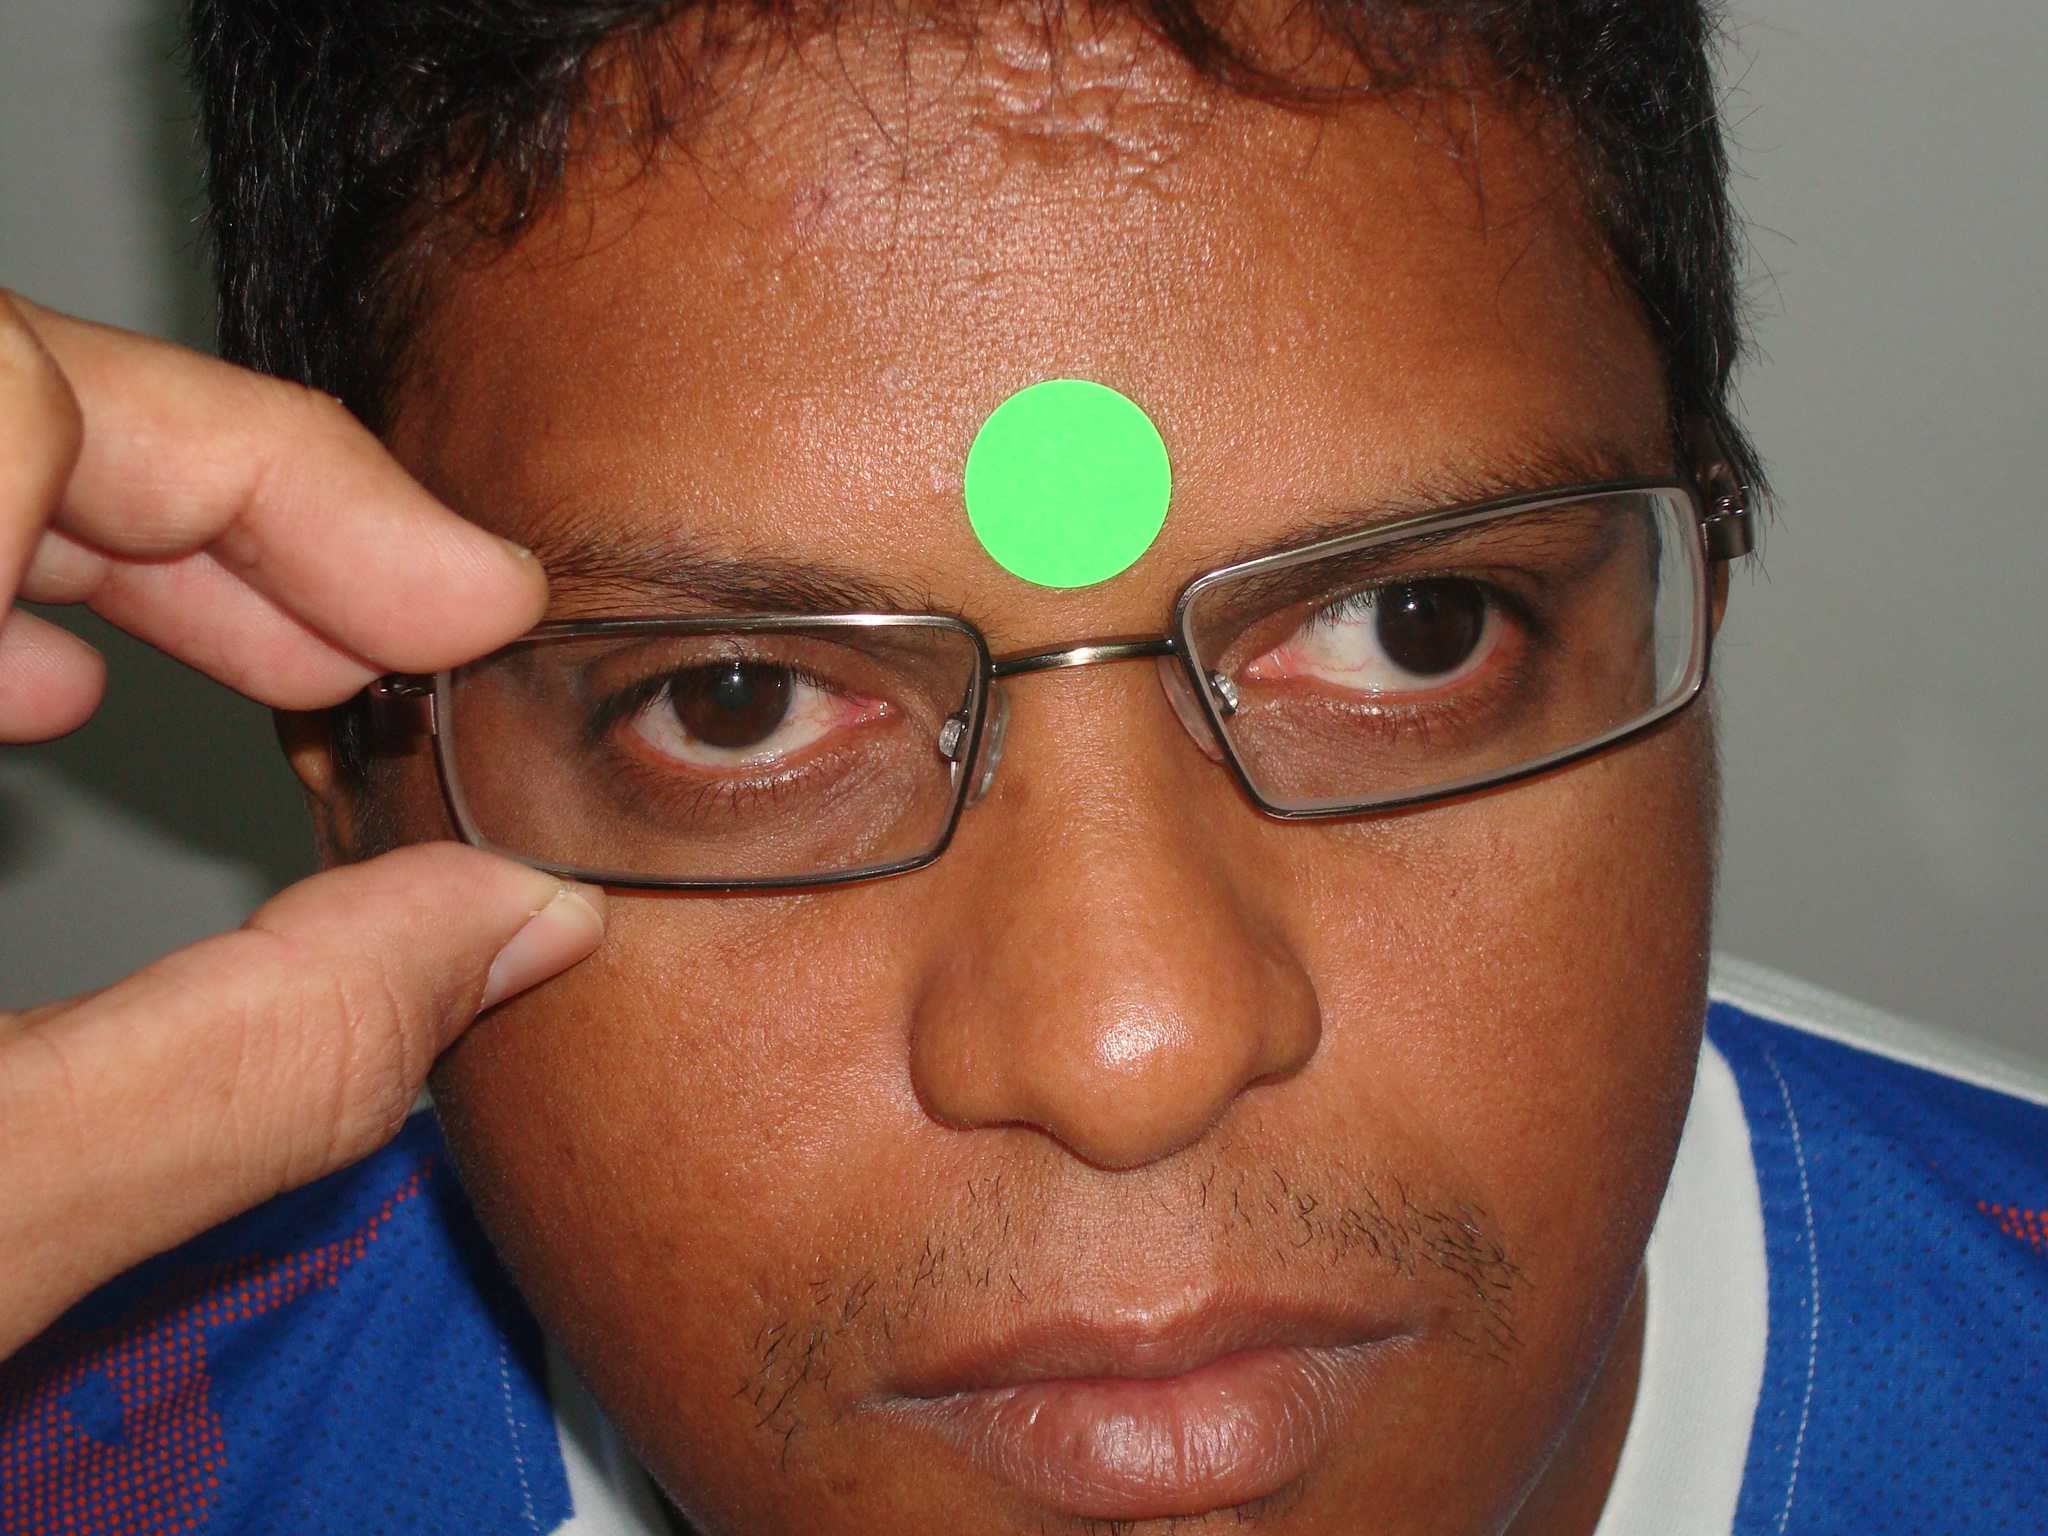flash: (726, 668, 745, 687), (1403, 597, 1419, 615)
limbo: (674, 642, 790, 737), (1372, 557, 1480, 657)
